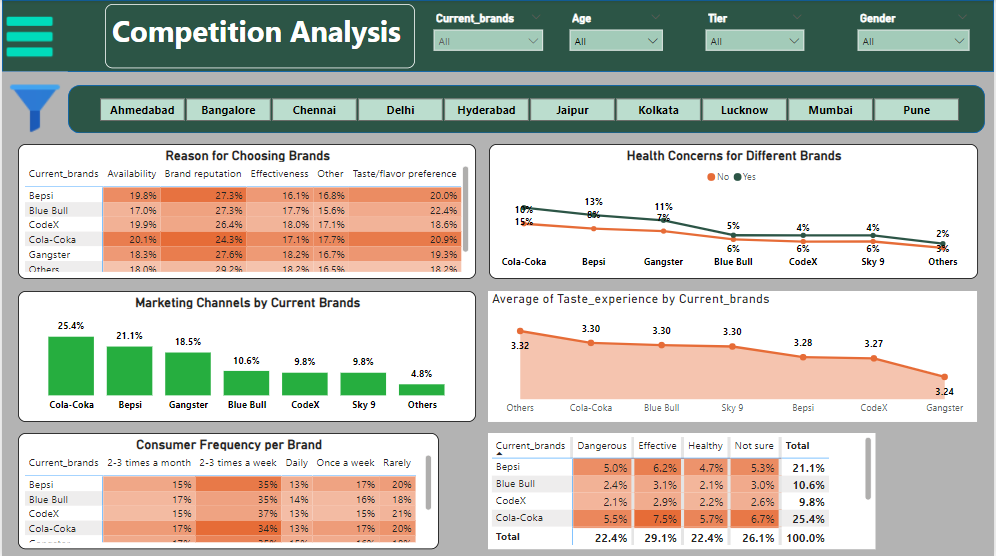

This screenshot's page, from the dashboard's own definition file:
{"tool":"powerbi","page":{"name":"Competition Analysis","canvas":[1280,720],"ordinal":4},"visuals":[{"type":"lineChart","title":" Health Concerns for Different Brands ","fields":{"Category":["fact_survey_responses.Current_brands"],"Y":["CountNonNull(fact_survey_responses.Health_concerns)"],"Series":["fact_survey_responses.Health_concerns"]},"box":[627.9,185.7,630.7,174.3],"z":0},{"type":"areaChart","fields":{"Y":["Avg(fact_survey_responses.Taste_experience)"],"Category":["fact_survey_responses.Current_brands"]},"box":[626.5,375.6,630.7,168.7],"z":1000},{"type":"columnChart","title":" Marketing Channels by Current Brands","fields":{"Category":["fact_survey_responses.Current_brands"],"Y":["CountNonNull(fact_survey_responses.Marketing_channels)"]},"box":[21.3,375.6,591,168.7],"z":2000},{"type":"pivotTable","fields":{"Rows":["fact_survey_responses.Current_brands"],"Columns":["fact_survey_responses.General_perception"],"Values":["CountNonNull(fact_survey_responses.Response_ID)"]},"box":[626.5,558.4,500.3,150.2],"z":3000},{"type":"pivotTable","title":"Consumer Frequency per Brand","fields":{"Rows":["fact_survey_responses.Current_brands"],"Columns":["fact_survey_responses.Consume_frequency"],"Values":["CountNonNull(fact_survey_responses.Response_ID)"]},"box":[21.3,558.4,542.8,150.2],"z":4000},{"type":"pivotTable","title":"Reason for Choosing Brands","fields":{"Rows":["fact_survey_responses.Current_brands"],"Columns":["fact_survey_responses.Reasons_for_choosing_brands"],"Values":["CountNonNull(fact_survey_responses.Response_ID)"]},"box":[20.6,185.8,591,174.2],"z":5000},{"type":"shape","box":[0,0,1280,92.8],"z":6000},{"type":"shape","box":[85,109.1,1183.5,62.4],"z":7000},{"type":"textbox","box":[132.7,5.7,399.6,82.8],"z":8000},{"type":"slicer","fields":{"Values":["dim_cities.City"]},"box":[100.6,120.5,1158,39.7],"z":9000},{"type":"slicer","fields":{"Values":["dim_repondents.Age"]},"box":[722.1,10,139.8,71.3],"z":10000},{"type":"slicer","fields":{"Values":["dim_cities.Tier"]},"box":[897.6,10,147,71.3],"z":11000},{"type":"slicer","fields":{"Values":["fact_survey_responses.Current_brands"]},"box":[546.5,10,161.2,71.3],"z":12000},{"type":"slicer","fields":{"Values":["dim_repondents.Gender"]},"box":[1094.5,10,164.1,71.3],"z":13000},{"type":"actionButton","title":"clear filter","box":[0,92.1,85,93.5],"z":13500},{"type":"actionButton","title":"Menu open","box":[0,11.4,85.6,71.3],"z":14000}]}

Visuals, with their boxes in screenshot pixels (x1, y1, x2, y2), scaled from the page's 1280x720 canvas onto the 996x556 screenshot:
" Health Concerns for Different Brands " lineChart: [489, 143, 979, 278]
areaChart - Avg(fact_survey_responses.Taste_experience) x fact_survey_responses.Current_brands: [487, 290, 978, 420]
" Marketing Channels by Current Brands" columnChart: [17, 290, 476, 420]
pivotTable - fact_survey_responses.Current_brands x fact_survey_responses.General_perception: [487, 431, 877, 547]
"Consumer Frequency per Brand" pivotTable: [17, 431, 439, 547]
"Reason for Choosing Brands" pivotTable: [16, 143, 476, 278]
shape: [0, 0, 995, 72]
shape: [66, 84, 987, 132]
textbox: [103, 4, 414, 68]
slicer - dim_cities.City: [78, 93, 979, 124]
slicer - dim_repondents.Age: [562, 8, 671, 63]
slicer - dim_cities.Tier: [698, 8, 813, 63]
slicer - fact_survey_responses.Current_brands: [425, 8, 551, 63]
slicer - dim_repondents.Gender: [852, 8, 979, 63]
"clear filter" actionButton: [0, 71, 66, 143]
"Menu open" actionButton: [0, 9, 67, 64]
